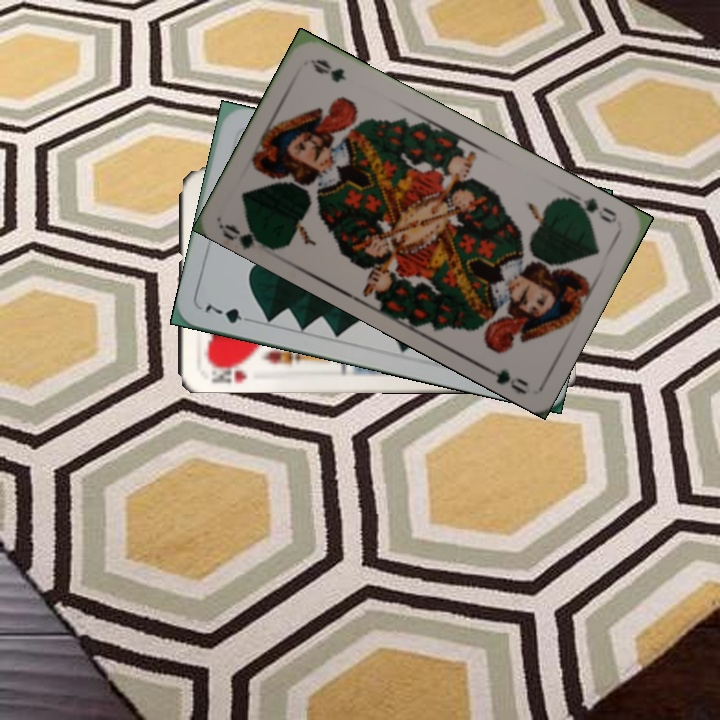G7: (201, 300, 257, 326)
GO: (219, 219, 278, 253), (566, 193, 620, 226)
HK: (204, 357, 253, 384)
